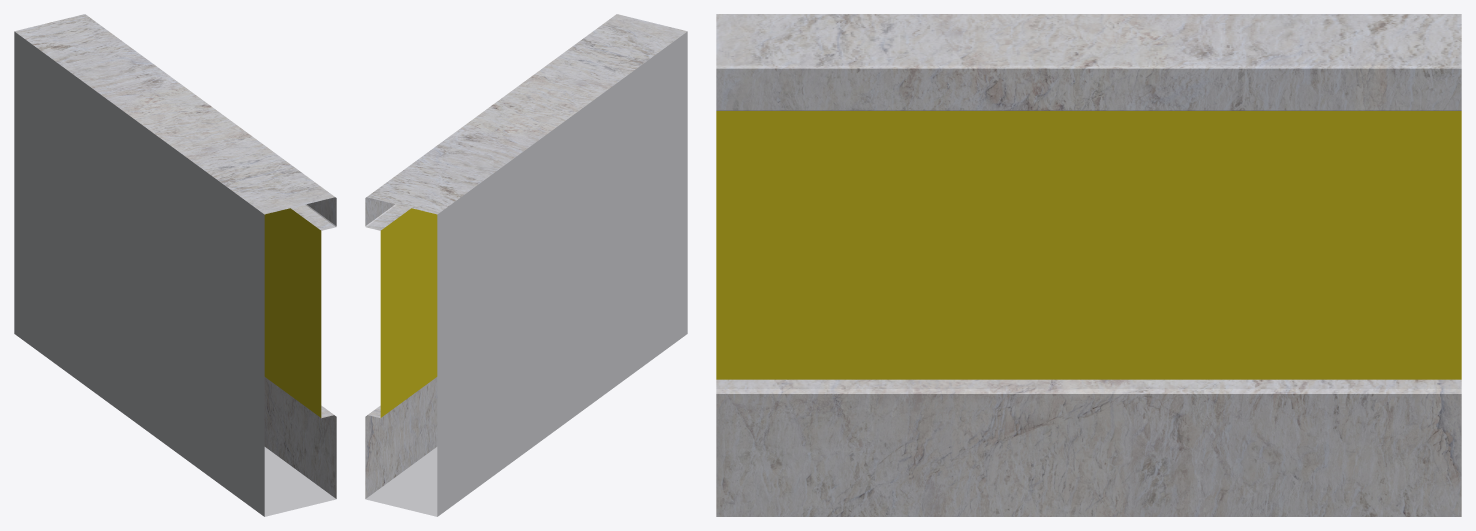
Rendered from StoneWall1.fbx.
The picture shows the model from 3 angles, left to right: view 1: azimuth 30°, elevation 25°; view 2: azimuth 150°, elevation 25°; view 3: azimuth 270°, elevation 25°; orthographic projection. The views are drawn at different scales.
Parts seen in each view (by area): view 1: Cube; view 2: Cube; view 3: Cube.
Boxes of the visible parts, box(x1,y1,x2,y2) form: Cube: box(14, 14, 336, 516); Cube: box(365, 14, 687, 516); Cube: box(716, 14, 1461, 516).
Size of the model in its own units: 100 by 400 by 600.
